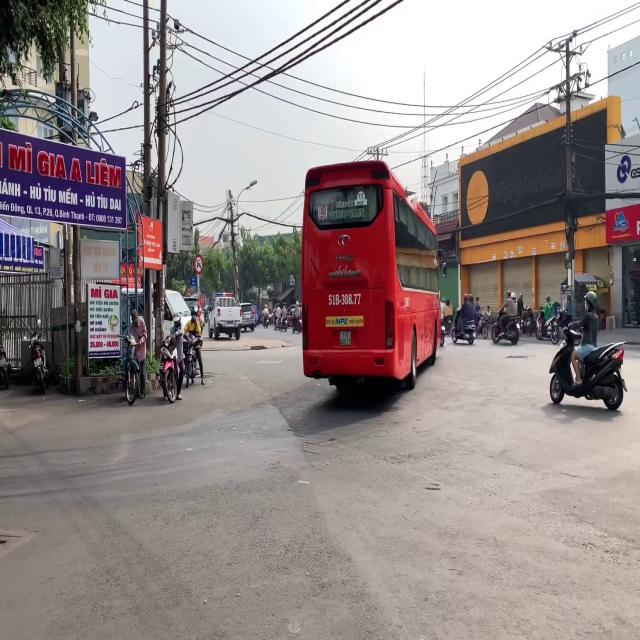bien_trang: (340, 329, 351, 347)
